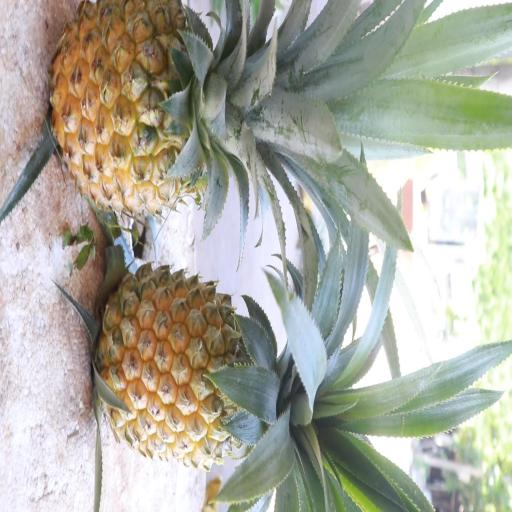Pineapple - v8 v1: (46, 0, 296, 225), (91, 252, 334, 474)
